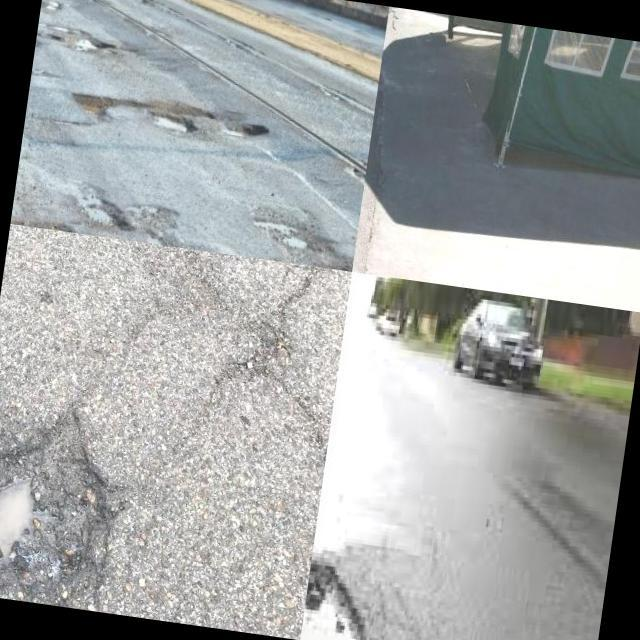Pothole: (0, 412, 100, 586), (63, 28, 113, 50), (96, 202, 131, 229), (73, 93, 112, 115), (158, 114, 198, 132), (278, 234, 310, 250), (239, 123, 268, 139)
